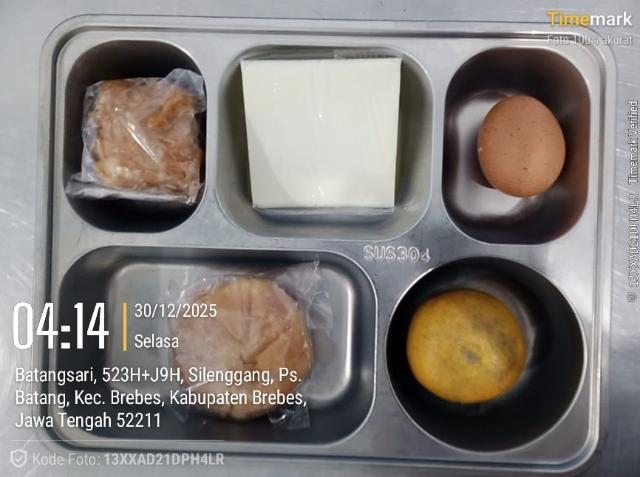buah: (406, 289, 526, 403)
keju: (241, 58, 401, 208)
roti: (173, 278, 311, 397)
tahu: (66, 69, 206, 203)
telur: (478, 96, 565, 197)
